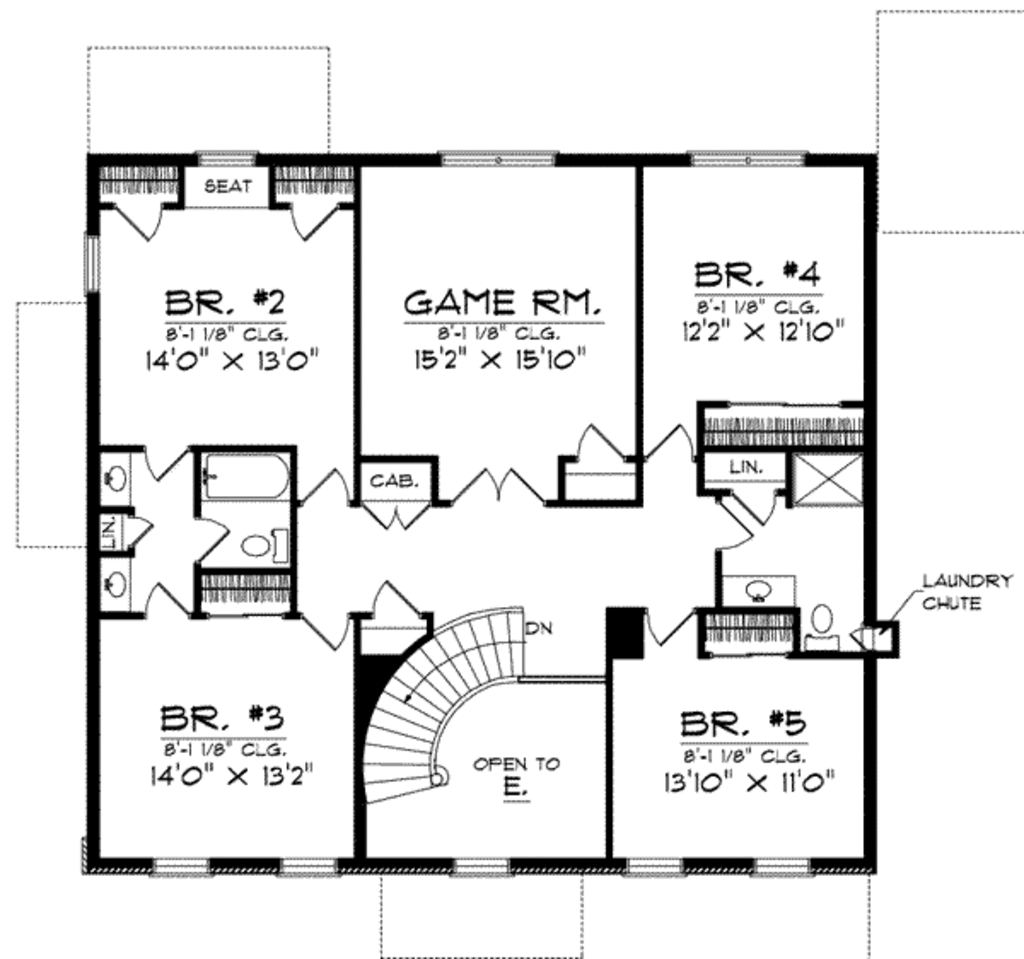door: (447, 462, 545, 509), (105, 195, 166, 247), (706, 501, 754, 558), (298, 467, 355, 509), (571, 422, 628, 463), (139, 576, 188, 623), (359, 502, 429, 534), (285, 202, 338, 244), (189, 512, 231, 565), (643, 601, 688, 648), (644, 422, 692, 465), (144, 442, 189, 484)
large_sink: (233, 522, 290, 567), (796, 603, 844, 656)
small_sink: (717, 572, 801, 608), (97, 449, 133, 507), (98, 550, 129, 613)
stairs: (363, 609, 528, 794)
tub: (198, 451, 296, 505)
windows: (684, 143, 807, 174), (431, 151, 560, 173), (143, 847, 221, 882), (442, 850, 515, 883), (620, 856, 688, 886), (270, 854, 347, 880), (747, 858, 821, 881), (191, 143, 258, 168)
